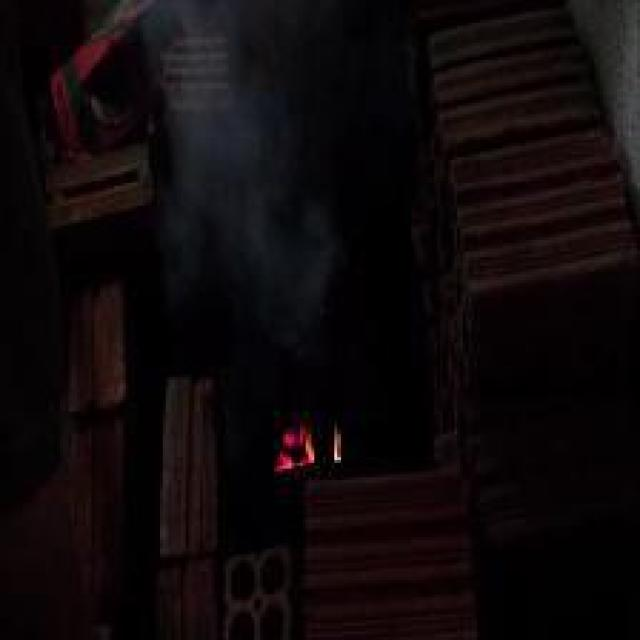fire: (237, 389, 330, 480)
